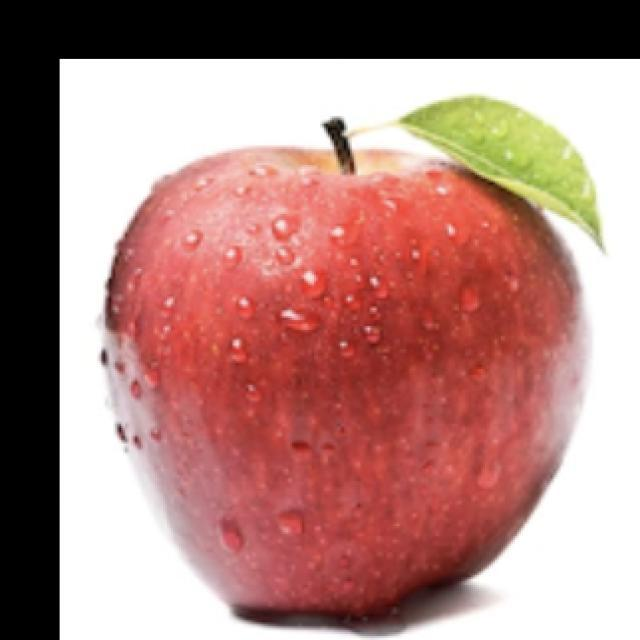Fresh Apple: (118, 158, 583, 640)
